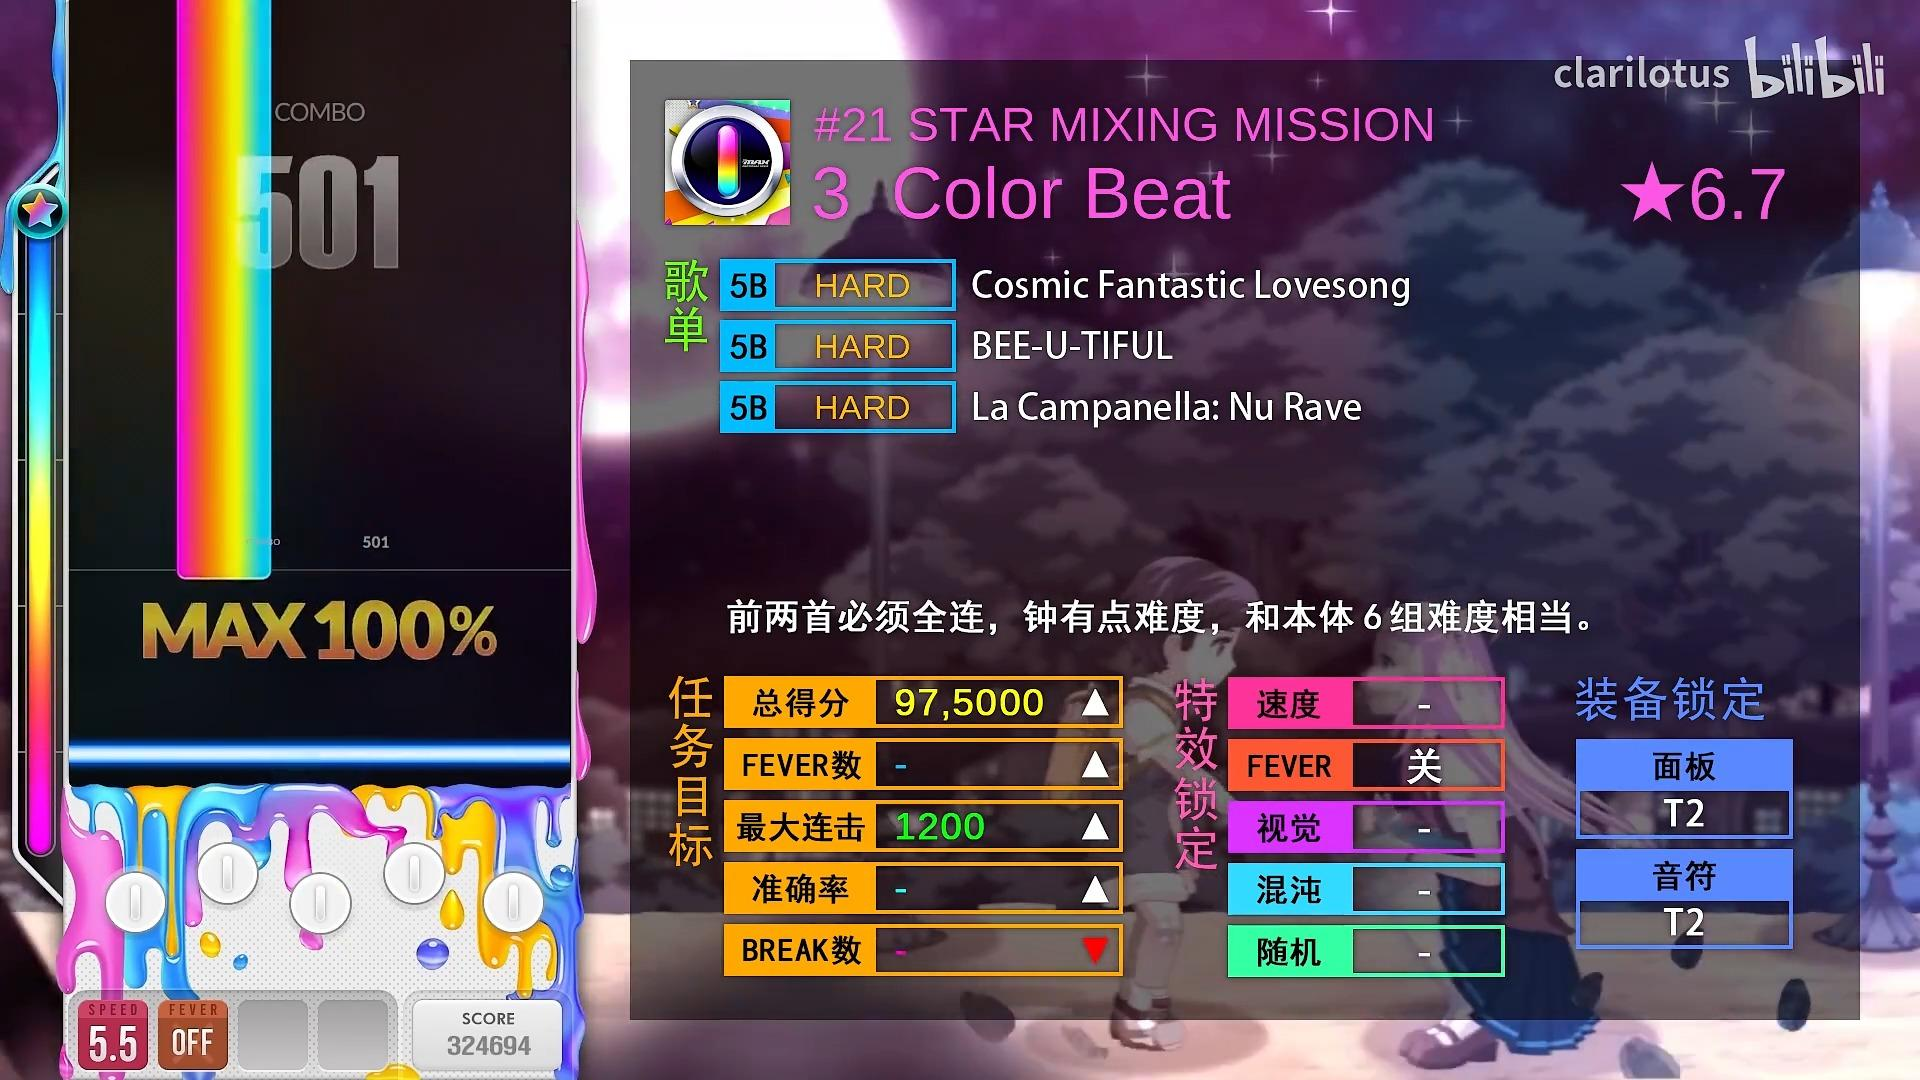hold-start: (177, 560, 272, 582)
